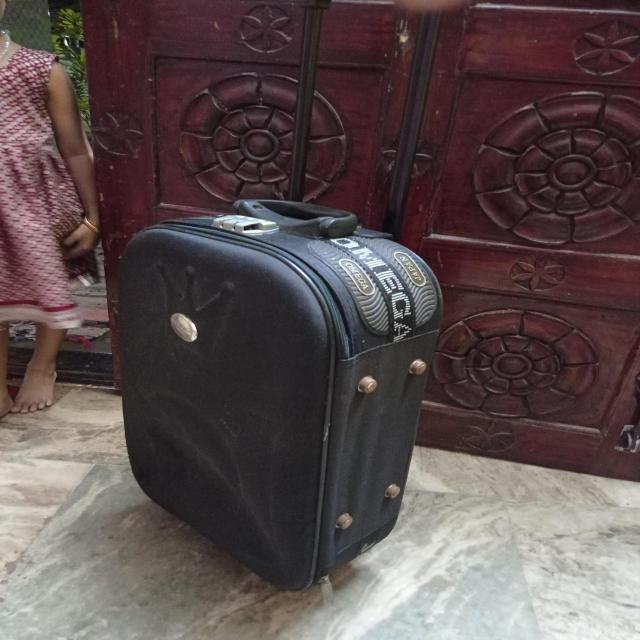luggage: (110, 202, 449, 596)
